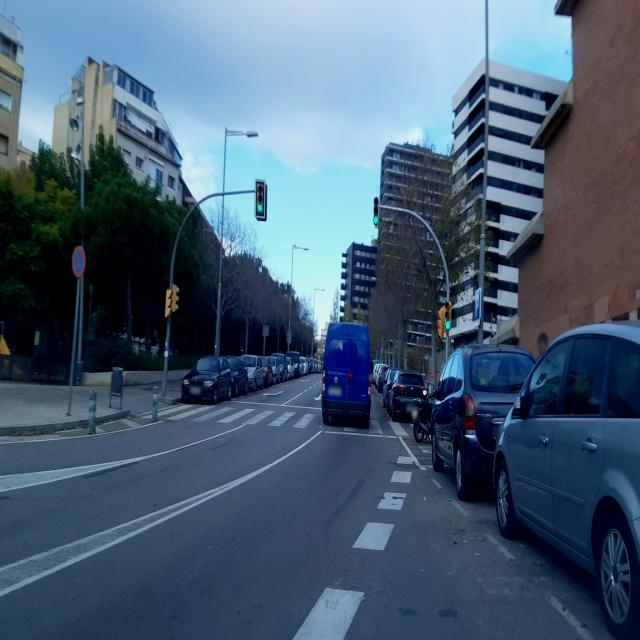bike: (412, 380, 444, 443)
car: (492, 318, 640, 638), (431, 340, 537, 501), (321, 320, 371, 428), (181, 353, 231, 405), (388, 368, 427, 422), (222, 354, 248, 398), (241, 353, 264, 392), (382, 370, 396, 410), (274, 352, 289, 382), (260, 354, 273, 388), (287, 350, 301, 378), (376, 365, 390, 392), (268, 354, 280, 384), (286, 354, 296, 380), (305, 358, 312, 374), (307, 357, 314, 372)
